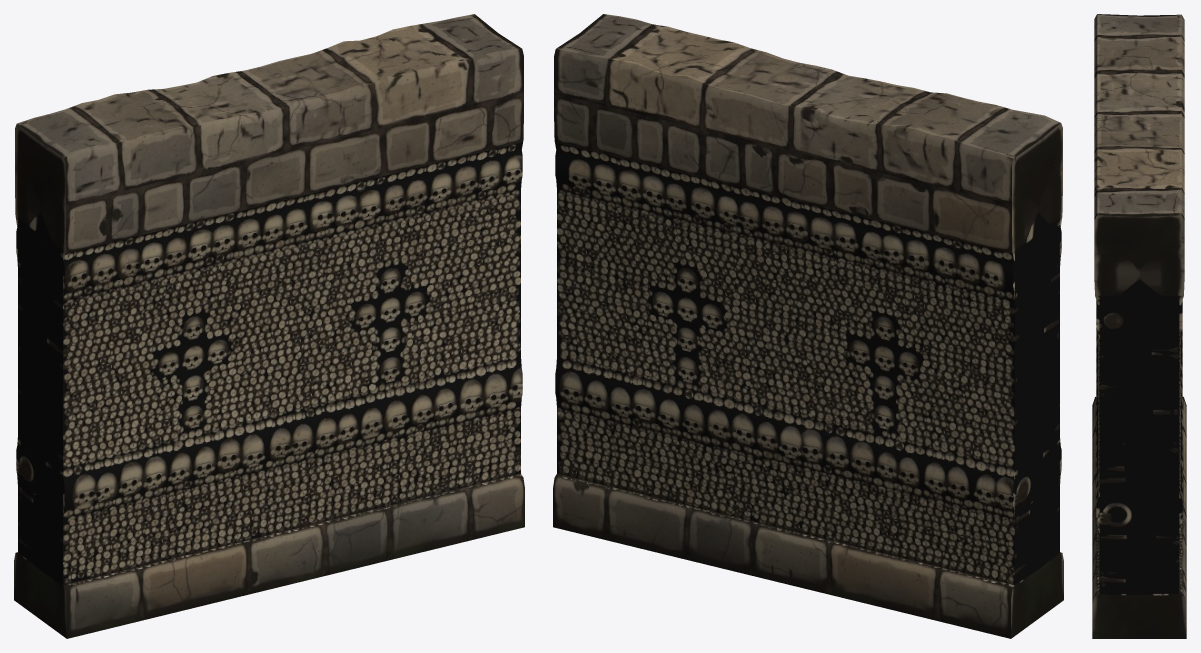
File: catacomb_wall.glb
3 renders of one model, left to right at view 1: azimuth 30°, elevation 25°; view 2: azimuth 150°, elevation 25°; view 3: azimuth 270°, elevation 25°, orthographic. The views are drawn at different scales.
Visible parts, largest first — view 1: catacomb_wall; view 2: catacomb_wall; view 3: catacomb_wall.
Part boxes in pixels (<box>): catacomb_wall: <box>14,14,524,638</box>; catacomb_wall: <box>553,14,1063,638</box>; catacomb_wall: <box>1092,14,1186,638</box>.
Bounding box in the file's own units: 4 × 4.04 × 0.8.
Materials: 1 (1 with a texture image).
